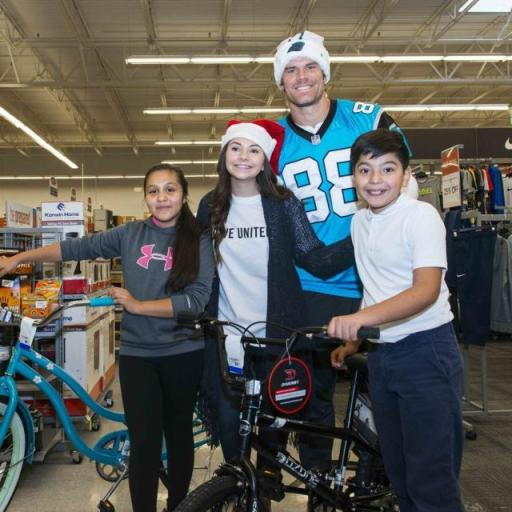Under Armour: (133, 240, 174, 272)
